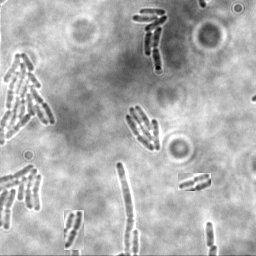Dividing: (114, 161, 133, 255), (64, 210, 84, 250), (178, 173, 211, 191), (204, 221, 215, 248)
Microcolony: (1, 51, 56, 147), (1, 162, 44, 231), (130, 8, 167, 72), (124, 106, 160, 153)
